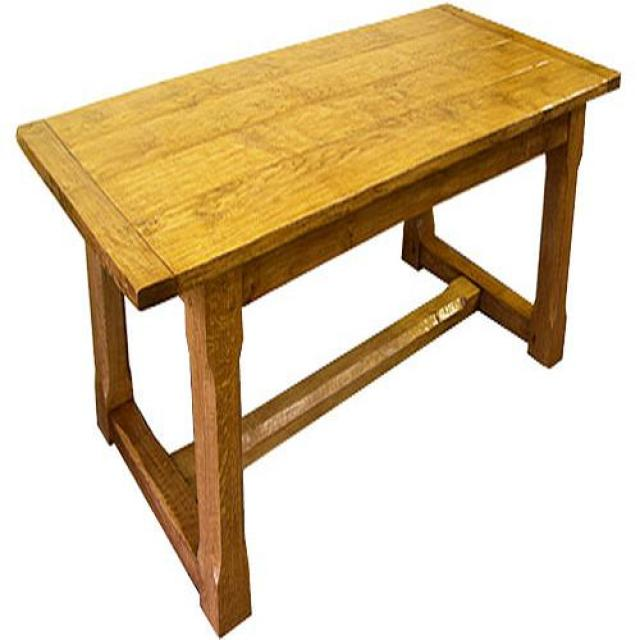table: (15, 4, 623, 640)
